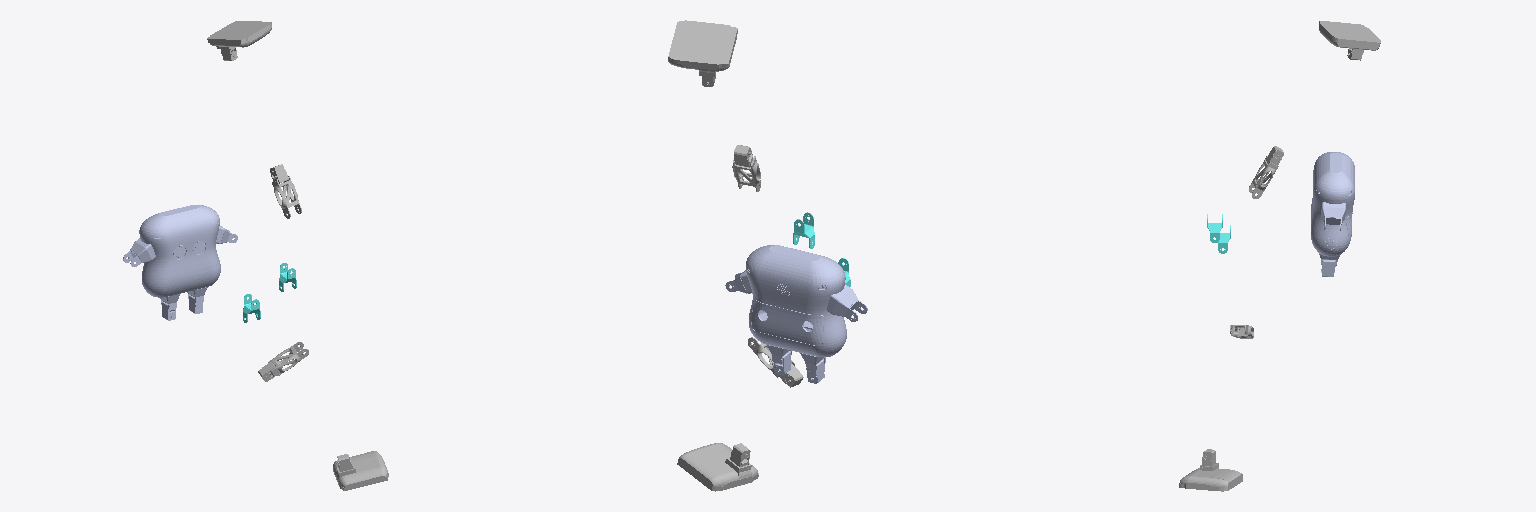
URDF robot description (Full Assembly-URDF):
<?xml version="1.0" encoding="utf-8"?>
<!-- This URDF was automatically created by SolidWorks to URDF Exporter! Originally created by [author] ([email redacted]) 
     Commit Version: 1.6.0-1-g15f4949  Build Version: 1.6.7594.29634
     For more information, please see http://wiki.ros.org/sw_urdf_exporter -->
<robot
  name="Full Assembly-URDF">
  <link
    name="base_link">
    <inertial>
      <origin
        xyz="0.0889751385476916 0.137835300997595 0.250521363449585"
        rpy="0 0 0" />
      <mass
        value="1.10295382130723" />
      <inertia
        ixx="0.00143052400452286"
        ixy="-1.33385327371225E-06"
        ixz="3.50695070434093E-08"
        iyy="0.00218057040256658"
        iyz="-0.000114664038418283"
        izz="0.00178557704586578" />
    </inertial>
    <visual>
      <origin
        xyz="0 0 0"
        rpy="0 0 0" />
      <geometry>
        <mesh 
          filename="base_link.STL" />
      </geometry>
      <material
        name="">
        <color
          rgba="0.792156862745098 0.819607843137255 0.933333333333333 1" />
      </material>
    </visual>
    <collision>
      <origin
        xyz="0 0 0"
        rpy="0 0 0" />
      <geometry>
        <mesh 
          filename="base_link.STL" />
      </geometry>
    </collision>
  </link>
  <link
    name="right_hip">
    <inertial>
      <origin
        xyz="5.89880228760165E-08 0.0147488214528889 -1.38906417962437E-06"
        rpy="0 0 0" />
      <mass
        value="0.0182000436759869" />
      <inertia
        ixx="4.61904406920877E-06"
        ixy="4.23491446567004E-12"
        ixz="-1.15262221478406E-11"
        iyy="4.55422288580642E-06"
        iyz="-1.65318141470171E-10"
        izz="4.61892006209933E-06" />
    </inertial>
    <visual>
      <origin
        xyz="0 0 0"
        rpy="0 0 0" />
      <geometry>
        <mesh 
          filename="right_hip.STL" />
      </geometry>
      <material
        name="">
        <color
          rgba="0.470588235294118 1 1 1" />
      </material>
    </visual>
    <collision>
      <origin
        xyz="0 0 0"
        rpy="0 0 0" />
      <geometry>
        <mesh 
          filename="right_hip.STL" />
      </geometry>
    </collision>
  </link>
  <joint
    name="right_hip_j"
    type="revolute">
    <origin
      xyz="0.055828 -0.24789 -0.054523"
      rpy="1.5708 0 0" />
    <parent
      link="base_link" />
    <child
      link="right_hip" />
    <axis
      xyz="0 0 -1" />
    <limit
      lower="0"
      upper="0"
      effort="0"
      velocity="0" />
  </joint>
  <link
    name="left_hip">
    <inertial>
      <origin
        xyz="8.29254460932294E-08 0.0147488213866487 -1.39679959154648E-06"
        rpy="0 0 0" />
      <mass
        value="0.0182000163522479" />
      <inertia
        ixx="4.6190428811728E-06"
        ixy="4.34973364898791E-12"
        ixz="-1.42471139948547E-11"
        iyy="4.55421476018356E-06"
        iyz="-1.65134803108001E-10"
        izz="4.61891383824014E-06" />
    </inertial>
    <visual>
      <origin
        xyz="0 0 0"
        rpy="0 0 0" />
      <geometry>
        <mesh 
          filename="left_hip.STL" />
      </geometry>
      <material
        name="">
        <color
          rgba="0.470588235294118 1 1 1" />
      </material>
    </visual>
    <collision>
      <origin
        xyz="0 0 0"
        rpy="0 0 0" />
      <geometry>
        <mesh 
          filename="left_hip.STL" />
      </geometry>
    </collision>
  </link>
  <joint
    name="left_hip_j"
    type="revolute">
    <origin
      xyz="0.13304 -0.24789 -0.025413"
      rpy="-1.57 0 1.5708" />
    <parent
      link="base_link" />
    <child
      link="left_hip" />
    <axis
      xyz="0 0 -1" />
    <limit
      lower="0"
      upper="0"
      effort="0"
      velocity="0" />
  </joint>
  <link
    name="right_knee">
    <inertial>
      <origin
        xyz="-0.0076676655762186 0.00937445475058557 0.0145404768463093"
        rpy="0 0 0" />
      <mass
        value="0.0689610903743217" />
      <inertia
        ixx="1.80423657037947E-05"
        ixy="-2.5485342900053E-10"
        ixz="-6.65487531910597E-07"
        iyy="4.29022773445102E-05"
        iyz="1.62012840320285E-10"
        izz="3.4277539831804E-05" />
    </inertial>
    <visual>
      <origin
        xyz="0 0 0"
        rpy="0 0 0" />
      <geometry>
        <mesh 
          filename="right_knee.STL" />
      </geometry>
      <material
        name="">
        <color
          rgba="0.752941176470588 0.752941176470588 0.752941176470588 1" />
      </material>
    </visual>
    <collision>
      <origin
        xyz="0 0 0"
        rpy="0 0 0" />
      <geometry>
        <mesh 
          filename="right_knee.STL" />
      </geometry>
    </collision>
  </link>
  <joint
    name="right_knee_j"
    type="revolute">
    <origin
      xyz="0.077212 -0.25495 -0.095608"
      rpy="2.7529 -1.39 -2.7471" />
    <parent
      link="right_hip" />
    <child
      link="right_knee" />
    <axis
      xyz="-1 0 0" />
    <limit
      lower="0"
      upper="0"
      effort="0"
      velocity="0" />
  </joint>
  <link
    name="left_knee">
    <inertial>
      <origin
        xyz="-0.00766788313184733 0.00962482681875276 0.0145404835277324"
        rpy="0 0 0" />
      <mass
        value="0.0689613529912111" />
      <inertia
        ixx="1.80423967603492E-05"
        ixy="-2.38647294204688E-10"
        ixz="-6.6544527879841E-07"
        iyy="4.29023769372407E-05"
        iyz="1.61305829804436E-10"
        izz="3.42776205831009E-05" />
    </inertial>
    <visual>
      <origin
        xyz="0 0 0"
        rpy="1.57 0 0" />
      <geometry>
        <mesh 
          filename="left_knee.STL" />
      </geometry>
      <material
        name="">
        <color
          rgba="0.752941176470588 0.752941176470588 0.752941176470588 1" />
      </material>
    </visual>
    <collision>
      <origin
        xyz="0 0 0"
        rpy="0 0 0" />
      <geometry>
        <mesh 
          filename="left_knee.STL" />
      </geometry>
    </collision>
  </link>
  <joint
    name="left_knee_j"
    type="revolute">
    <origin
      xyz="0.16092 -0.25898 -0.094026"
      rpy="-2.8982 -1.3832 2.894" />
    <parent
      link="left_hip" />
    <child
      link="left_knee" />
    <axis
      xyz="0.1 0 0.1" />
    <limit
      lower="0"
      upper="0"
      effort="0"
      velocity="0" />
  </joint>
  <link
    name="right_ankle">
    <inertial>
      <origin
        xyz="-0.00996695197317302 0.00131996347074376 0.0143385541430397"
        rpy="0 0 0" />
      <mass
        value="0.179936209358496" />
      <inertia
        ixx="0.000133009412255369"
        ixy="-1.20873987872488E-06"
        ixz="4.92993213183271E-09"
        iyy="5.41378086386477E-05"
        iyz="2.02257286003695E-09"
        izz="0.000114596286353538" />
    </inertial>
    <visual>
      <origin
        xyz="0 0 0"
        rpy="0 0 0" />
      <geometry>
        <mesh 
          filename="right_ankle.STL" />
      </geometry>
      <material
        name="">
        <color
          rgba="0.752941176470588 0.752941176470588 0.752941176470588 1" />
      </material>
    </visual>
    <collision>
      <origin
        xyz="0 0 0"
        rpy="0 0 0" />
      <geometry>
        <mesh 
          filename="right_ankle.STL" />
      </geometry>
    </collision>
  </link>
  <joint
    name="right_ankle_j"
    type="revolute">
    <origin
      xyz="0.097646 -0.24223 -0.21219"
      rpy="2.2673 -1.3084 -2.2502" />
    <parent
      link="right_knee" />
    <child
      link="right_ankle" />
    <axis
      xyz="-1 2 0" />
    <limit
      lower="0"
      upper="0"
      effort="0"
      velocity="0" />
  </joint>
  <link
    name="left_ankle">
    <inertial>
      <mass
        value="0.179936286530406" />
      <inertia
        ixx="0.000133009534105929"
        ixy="-1.20875840082662E-06"
        ixz="4.92960082246886E-09"
        iyy="5.41378145384162E-05"
        iyz="2.02685617711148E-09"
        izz="0.000114596403265796" />
    </inertial>
    <visual>
      <origin
        xyz="0 0 0"
        rpy="0 0 0" />
      <geometry>
        <mesh 
          filename="left_ankle.STL" />
      </geometry>
      <material
        name="">
        <color
          rgba="0.752941176470588 0.752941176470588 0.752941176470588 1" />
      </material>
    </visual>
    <collision>
      <origin
        xyz="0 0 0"
        rpy="0 0 0" />
      <geometry>
        <mesh 
          filename="left_ankle.STL" />
      </geometry>
    </collision>
  </link>
  <joint
    name="left_ankle_j"
    type="revolute">
    <origin
      xyz="0 -0.25367 -0.21153"
      rpy="2.2153 -1.2647 -2.1927" />
    <parent
      link="left_knee" />
    <child
      link="left_ankle" />
    <axis
      xyz="-1 0 0" />
    <limit
      lower="0"
      upper="0"
      effort="0"
      velocity="0" />
  </joint>
</robot>

--- What the picture shows (computed from the rendered views, not written in the file) ---
3 views of the same robot in one strip: view 1: azimuth 30°, elevation 25°; view 2: azimuth 150°, elevation 25°; view 3: azimuth 270°, elevation 25° (orthographic).
Model Full Assembly-URDF with 7 links and 6 joints (6 revolute), rooted at base_link, posed all joints at 0.
Links seen in each view (by area): view 1: base_link, right_ankle, left_ankle, left_knee, right_knee; view 2: base_link, left_ankle, right_ankle, left_knee, right_knee; view 3: base_link, left_ankle, right_ankle, left_knee.
Boxes of the visible links, <box> form: base_link: <box>123,205,237,320</box>; right_ankle: <box>333,451,388,490</box>; left_ankle: <box>207,21,271,60</box>; left_knee: <box>270,164,301,218</box>; right_knee: <box>258,342,308,381</box>; base_link: <box>725,245,867,383</box>; left_ankle: <box>668,20,737,86</box>; right_ankle: <box>677,443,758,491</box>; left_knee: <box>732,145,760,191</box>; right_knee: <box>748,337,803,387</box>; base_link: <box>1311,152,1354,276</box>; left_ankle: <box>1319,21,1380,60</box>; right_ankle: <box>1179,449,1242,491</box>; left_knee: <box>1249,146,1283,198</box>.
Size in the robot's own frame: 0.6103 by 0.5097 by 1.22 metres.
Meshes: 7 distinct files referenced, 7 mesh visuals loaded (7 binary STL).